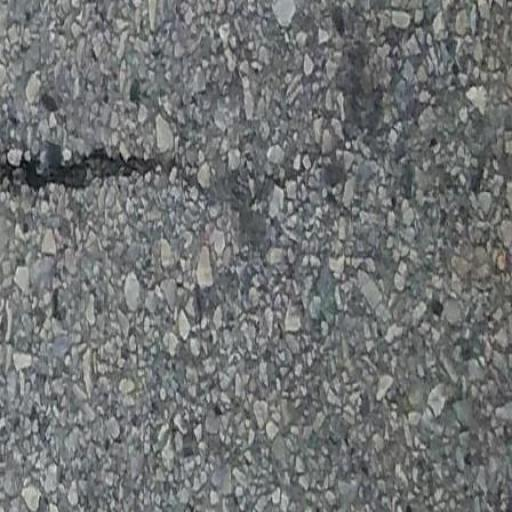spalling: (7, 136, 212, 208)
